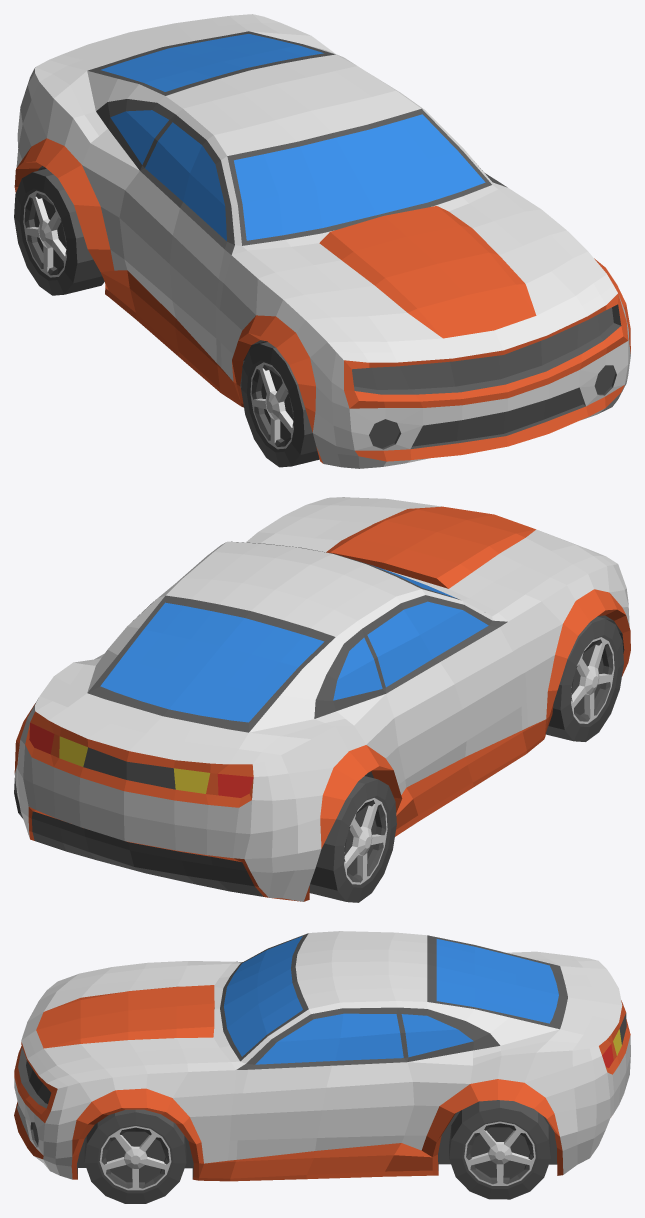
The model's file is car.glb.
3 renders of one model, top to bottom at view 1: azimuth 30°, elevation 25°; view 2: azimuth 150°, elevation 25°; view 3: azimuth 270°, elevation 25°, orthographic. The views are drawn at different scales.
Parts seen in each view (by area): view 1: Plane; view 2: Plane; view 3: Plane.
Boxes of the visible parts, x1,y1,x2,y2 form: Plane: [14, 14, 630, 468]; Plane: [14, 497, 630, 902]; Plane: [14, 931, 630, 1203].
Bounding box in the file's own units: 1.34 × 0.8704 × 2.71.
